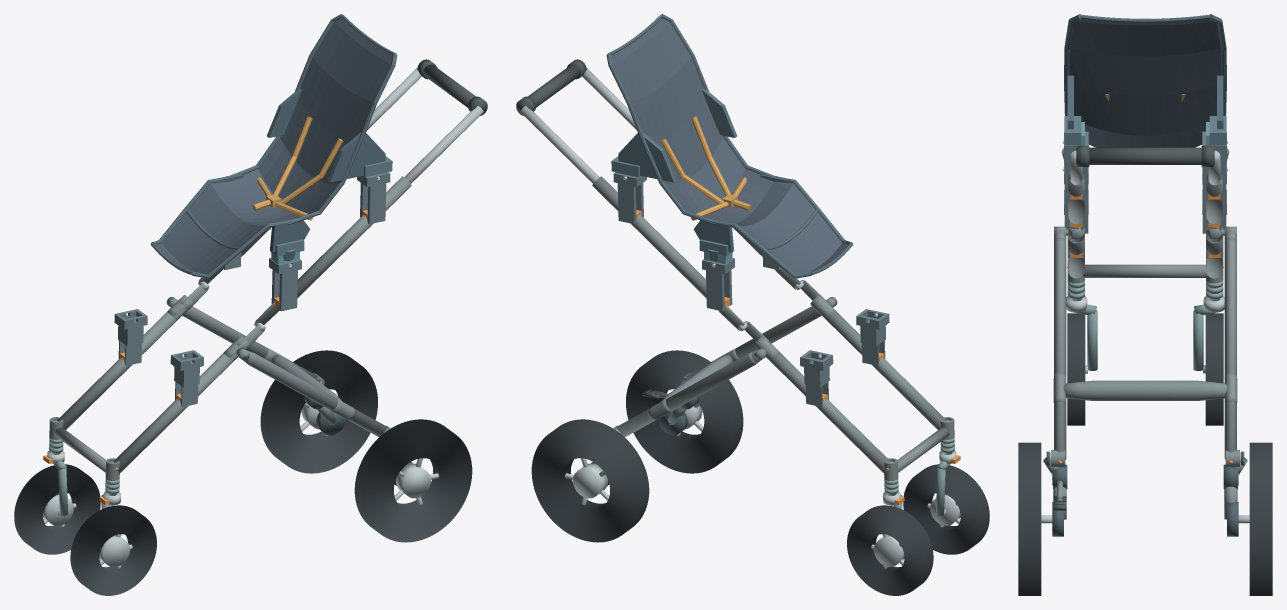
The model's file is S01_w380_state1_wheel_M.glb.
3 views of the same model, side by side, from view 1: azimuth 30°, elevation 25°; view 2: azimuth 150°, elevation 25°; view 3: azimuth 270°, elevation 25° (orthographic). The views are drawn at different scales.
Parts seen in each view (by area): view 1: S01_Cabin, RL_tire.009, RR_tire.009, FL_tire.009, FR_tire.009, main_lower_-1, main_lower_1, V46_rear_leg_-1.002, main_upper_-1, Universal_Cabin_Receiver_L_1, Universal_Cabin_Receiver_L_-1, Universal_Cabin_Receiver_M_-1 (+10 smaller); view 2: S01_Cabin, RR_tire.009, RL_tire.009, FR_tire.009, FL_tire.009, main_lower_1, main_lower_-1, V46_rear_leg_1.002, main_upper_1, Universal_Cabin_Receiver_L_-1, Universal_Cabin_Receiver_L_1, Universal_Cabin_Receiver_M_1 (+10 smaller); view 3: S01_Cabin, RL_tire.009, RR_tire.009, V46_rearbar.002, V46_rear_leg_1.002, V46_rear_leg_-1.002, round_handle.010, FL_tire.009, FR_tire.009, front_fixed_round_tube, S01_Cabin_Mount_H, Universal_Cabin_Receiver_H_1 (+12 smaller).
Boxes of the visible parts, x1=… form: S01_Cabin: x1=150, y1=14, x2=397, y2=278; RL_tire.009: x1=354, y1=419, x2=472, y2=542; RR_tire.009: x1=260, y1=350, x2=377, y2=473; FL_tire.009: x1=70, y1=505, x2=156, y2=595; FR_tire.009: x1=14, y1=464, x2=100, y2=554; main_lower_-1: x1=113, y1=353, x2=236, y2=473; main_lower_1: x1=57, y1=308, x2=185, y2=429; V46_rear_leg_-1.002: x1=246, y1=352, x2=387, y2=436; main_upper_-1: x1=297, y1=176, x2=411, y2=298; Universal_Cabin_Receiver_L_1: x1=114, y1=309, x2=147, y2=365; Universal_Cabin_Receiver_L_-1: x1=170, y1=350, x2=203, y2=406; Universal_Cabin_Receiver_M_-1: x1=268, y1=258, x2=301, y2=311; S01_Cabin: x1=606, y1=14, x2=853, y2=278; RR_tire.009: x1=531, y1=419, x2=649, y2=542; RL_tire.009: x1=626, y1=350, x2=743, y2=473; FR_tire.009: x1=847, y1=505, x2=933, y2=595; FL_tire.009: x1=903, y1=464, x2=989, y2=554; main_lower_1: x1=767, y1=353, x2=890, y2=473; main_lower_-1: x1=818, y1=308, x2=946, y2=429; V46_rear_leg_1.002: x1=616, y1=352, x2=757, y2=436; main_upper_1: x1=592, y1=176, x2=706, y2=298; Universal_Cabin_Receiver_L_-1: x1=856, y1=309, x2=889, y2=365; Universal_Cabin_Receiver_L_1: x1=800, y1=350, x2=833, y2=406; Universal_Cabin_Receiver_M_1: x1=702, y1=258, x2=735, y2=311; S01_Cabin: x1=1064, y1=14, x2=1226, y2=147; RL_tire.009: x1=1018, y1=442, x2=1041, y2=595; RR_tire.009: x1=1249, y1=442, x2=1272, y2=595; V46_rearbar.002: x1=1063, y1=380, x2=1227, y2=400; V46_rear_leg_1.002: x1=1224, y1=237, x2=1236, y2=459; V46_rear_leg_-1.002: x1=1054, y1=237, x2=1066, y2=459; round_handle.010: x1=1076, y1=147, x2=1214, y2=164; FL_tire.009: x1=1067, y1=313, x2=1085, y2=425; FR_tire.009: x1=1205, y1=313, x2=1223, y2=425; front_fixed_round_tube: x1=1082, y1=264, x2=1208, y2=277; S01_Cabin_Mount_H: x1=1063, y1=116, x2=1227, y2=145; Universal_Cabin_Receiver_H_1: x1=1202, y1=131, x2=1226, y2=200.
Bounding box in the file's own units: 1.15 × 1.24 × 0.4971.
